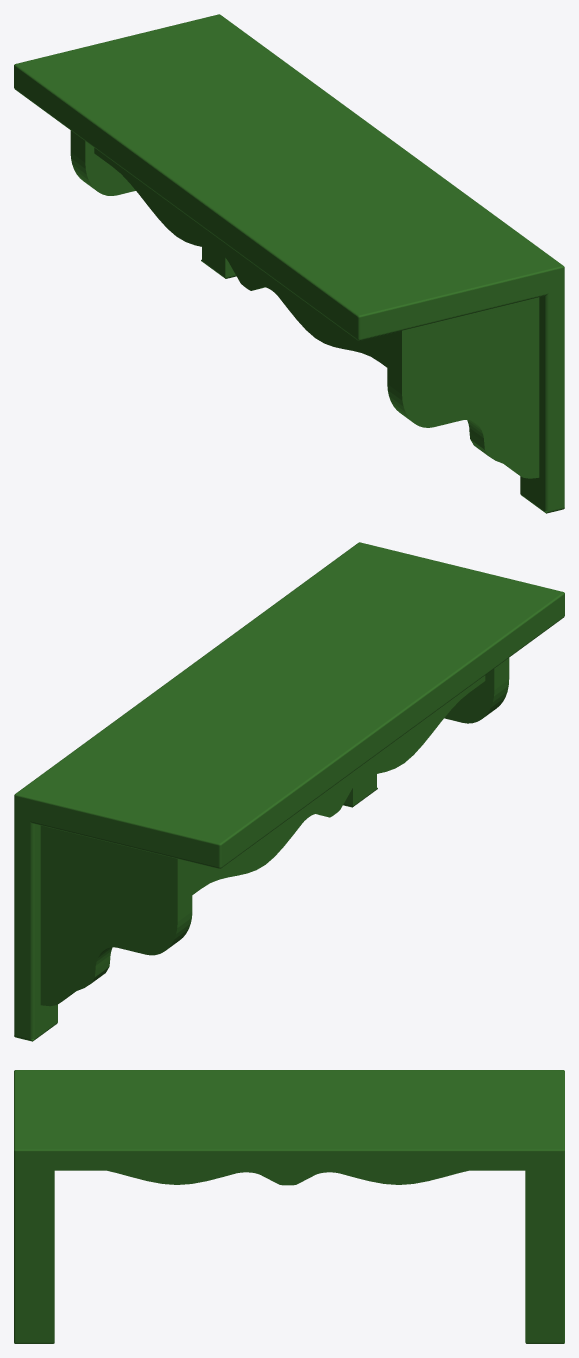
Rendered from Полка.fbx.
3 views of the same model, one above another, from view 1: azimuth 30°, elevation 25°; view 2: azimuth 150°, elevation 25°; view 3: azimuth 270°, elevation 25° (orthographic). The views are drawn at different scales.
Visible parts, largest first — view 1: Plane.003; view 2: Plane.003; view 3: Plane.003.
Part boxes in pixels (left/top/right/bottom): Plane.003: left=14, top=14, right=564, bottom=513; Plane.003: left=14, top=542, right=564, bottom=1041; Plane.003: left=14, top=1070, right=564, bottom=1343.
Size of the model in its own units: 0.5666 by 0.6396 by 1.64.
